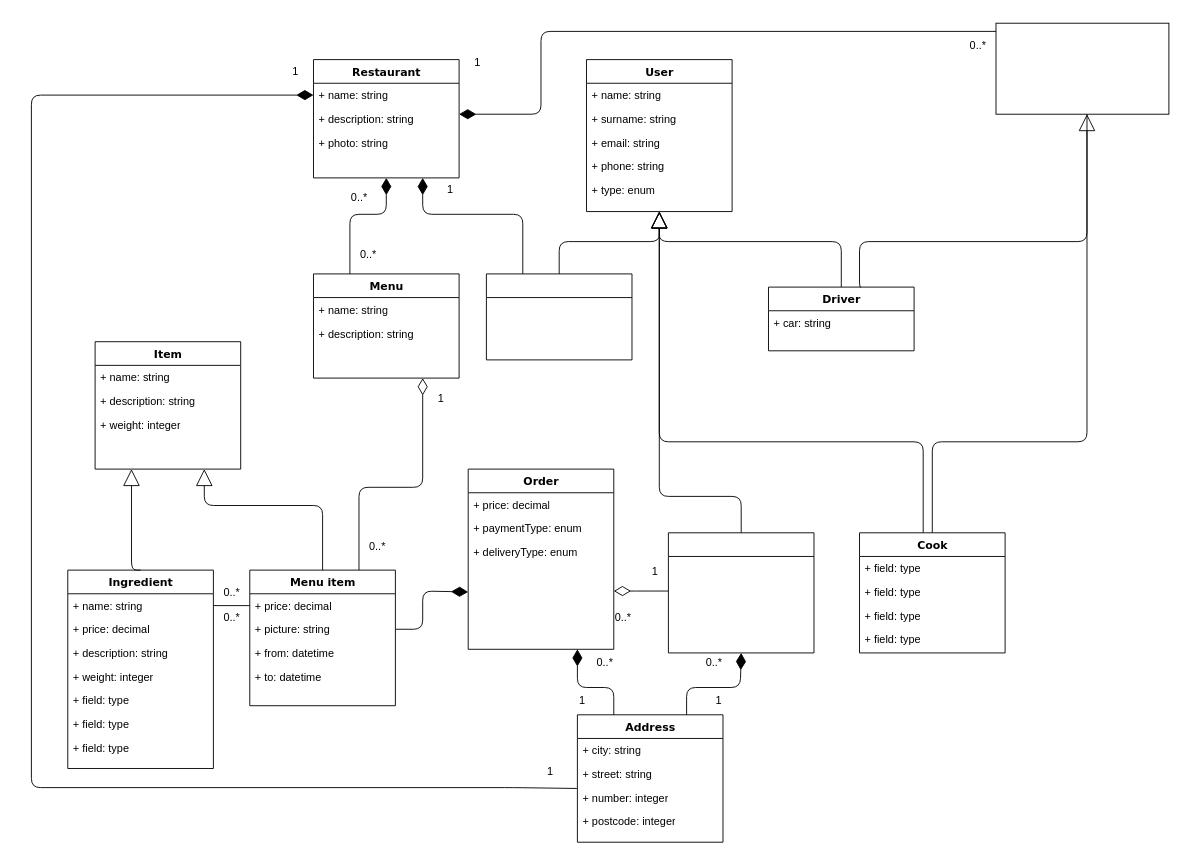
The diagram is 1185 pixels wide and 858 high, and some of its shapes have lost their labels. Each missing label, with the centre of its shape:
"<<Interface>> Employee" belongs at point (1082, 68).
"Customer" belongs at point (740, 592).
"Manager" belongs at point (558, 316).
